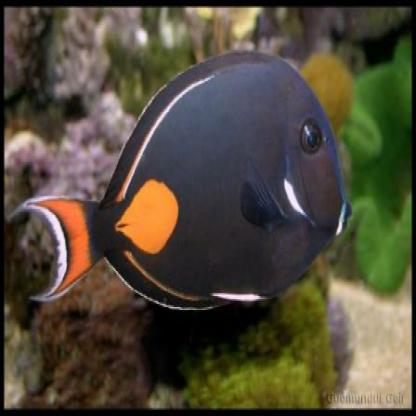Acanthuridae -Surgeonfishes-: (16, 45, 356, 313)
